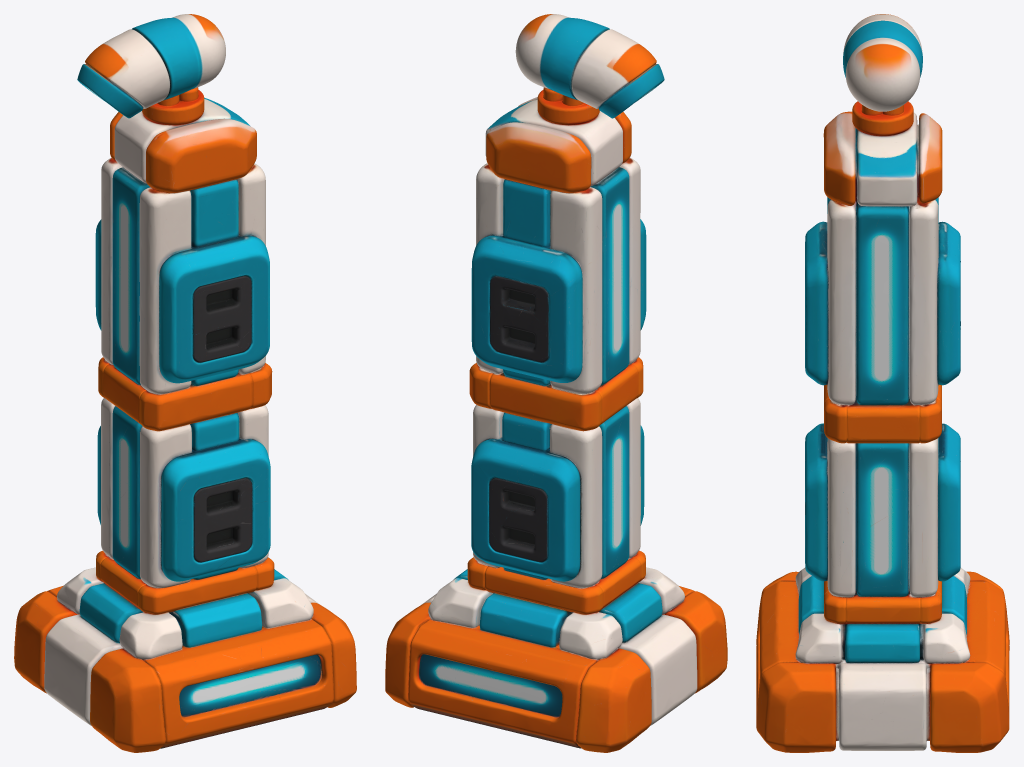
Rendered from Meshy_AI_roofline_checkpoint_p_1024042954_image-to-3d-texture.glb.
3 renders of one model, left to right at view 1: azimuth 30°, elevation 25°; view 2: azimuth 150°, elevation 25°; view 3: azimuth 270°, elevation 25°, orthographic.
Size of the model in its own units: 0.7183 by 1.9 by 0.6616.
Materials: 1 (1 with a texture image).
